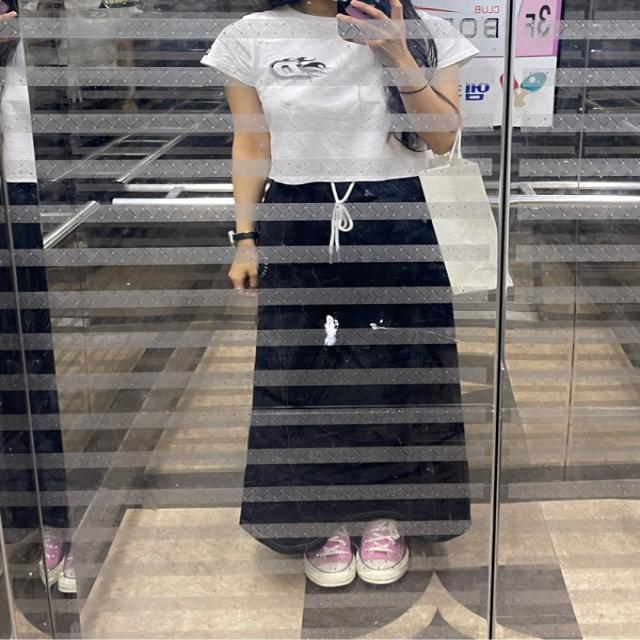shortsleeve: (201, 3, 480, 184)
skirt: (242, 172, 474, 551)
